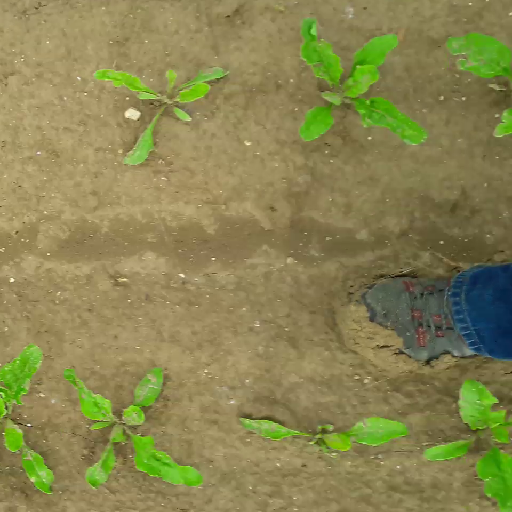sugarbeet: (60, 364, 209, 490), (295, 17, 435, 149), (97, 63, 231, 168), (423, 375, 510, 512), (235, 410, 411, 457), (1, 333, 50, 497), (444, 26, 512, 139)
